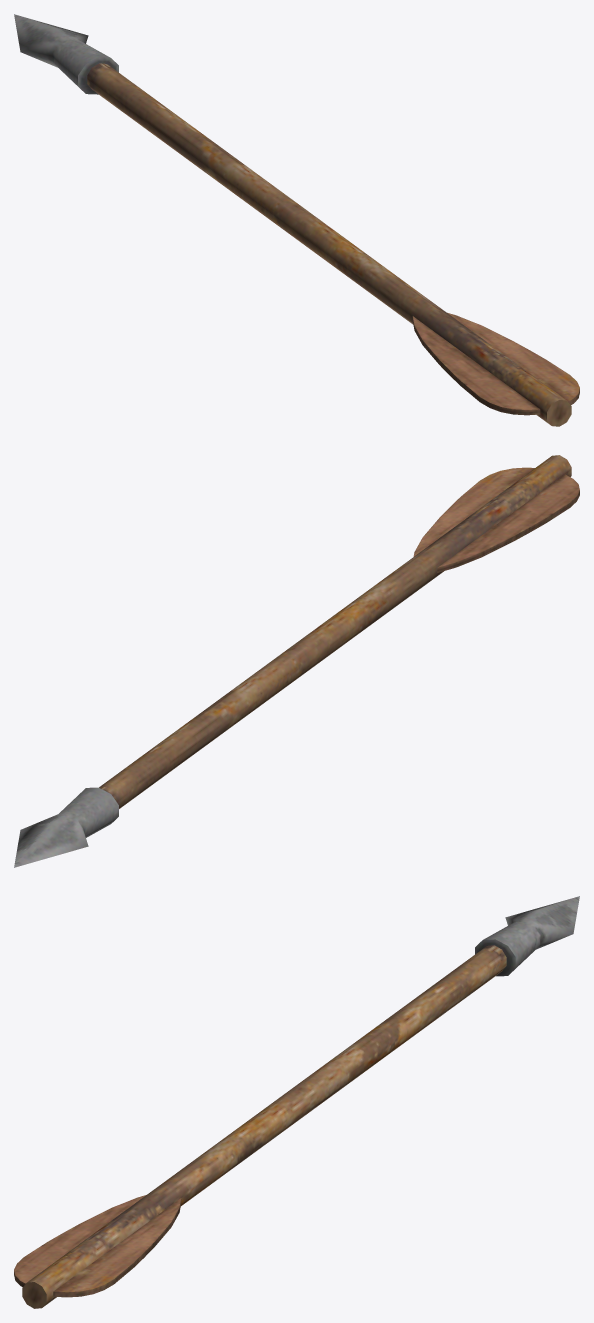
Rendered from Crossbow_Bolt_01.fbx.
3 views of the same model, one above another, from view 1: azimuth 30°, elevation 25°; view 2: azimuth 150°, elevation 25°; view 3: azimuth 330°, elevation 25° (orthographic).
Visible parts, largest first — view 1: Crossbow_Bolt_01_LOD0; view 2: Crossbow_Bolt_01_LOD0; view 3: Crossbow_Bolt_01_LOD0.
Part boxes in pixels (bbox=[...]): Crossbow_Bolt_01_LOD0: bbox=[14, 14, 579, 426]; Crossbow_Bolt_01_LOD0: bbox=[14, 455, 579, 867]; Crossbow_Bolt_01_LOD0: bbox=[14, 896, 579, 1308].
Size of what is drawn, in the model's own units: 2.74 by 1.07 by 28.67.
